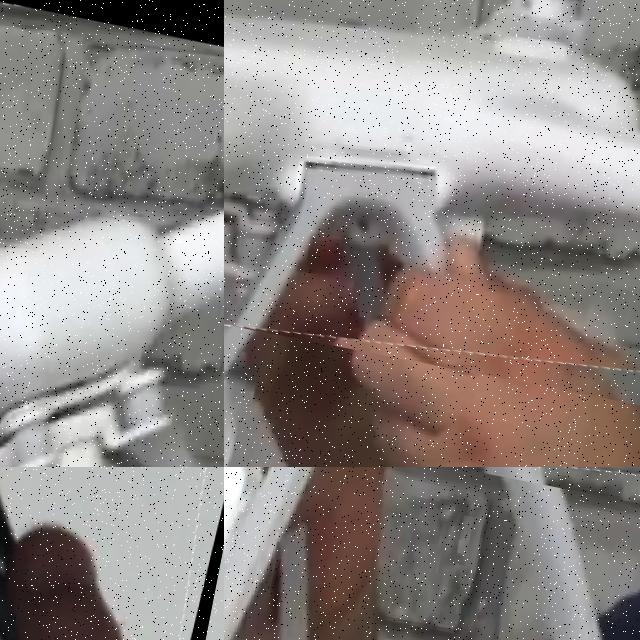drone: (224, 0, 640, 413), (0, 0, 224, 467), (0, 467, 224, 640), (224, 467, 640, 521)
